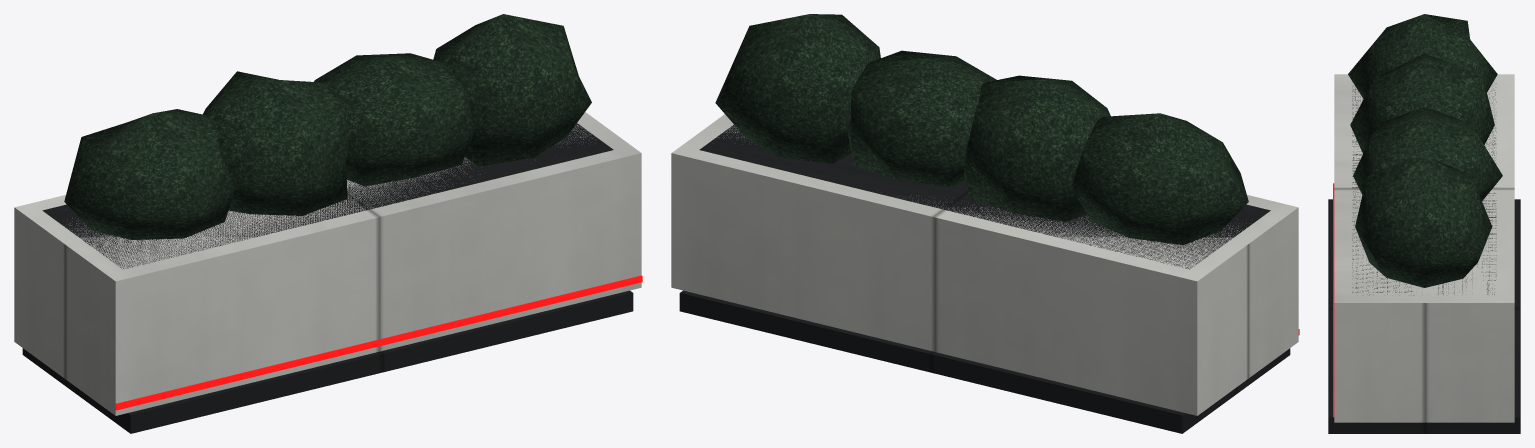
File: SM_LFD_Planter_Low.fbx
3 renders of one model, left to right at view 1: azimuth 30°, elevation 25°; view 2: azimuth 150°, elevation 25°; view 3: azimuth 270°, elevation 25°, orthographic. The views are drawn at different scales.
Parts seen in each view (by area): view 1: SM_LFD_Planter_Low_LOD0; view 2: SM_LFD_Planter_Low_LOD0; view 3: SM_LFD_Planter_Low_LOD0.
Part boxes in pixels (x1,y1,x2,y2): SM_LFD_Planter_Low_LOD0: [14, 14, 642, 433]; SM_LFD_Planter_Low_LOD0: [671, 14, 1299, 433]; SM_LFD_Planter_Low_LOD0: [1328, 14, 1520, 433].
Size of what is drawn, in the model's own units: 1.8 by 0.9038 by 0.64.
